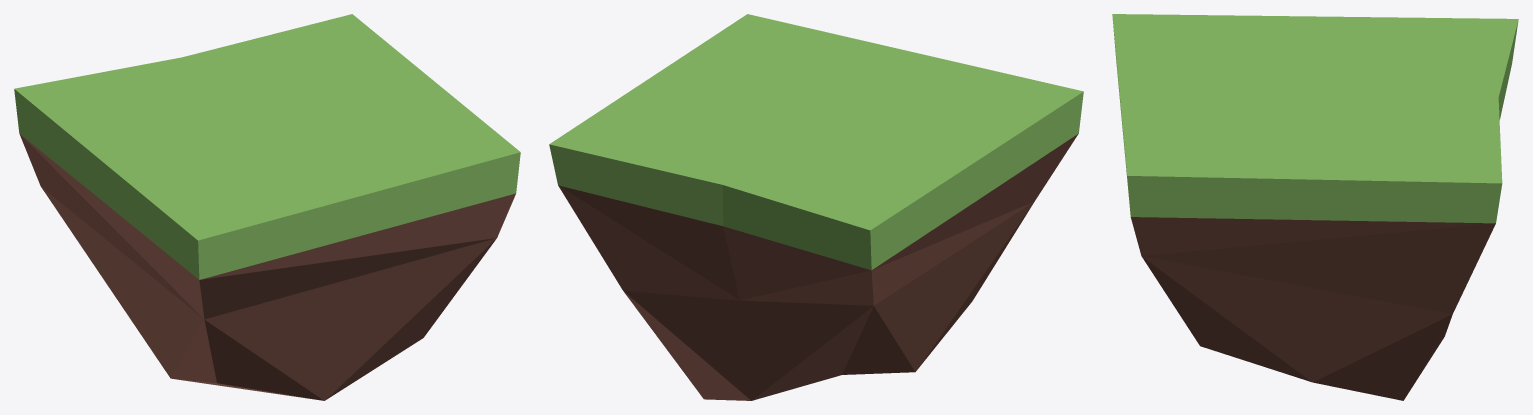
File: SmallIsland2.fbx
The picture shows the model from 3 angles, left to right: view 1: azimuth 30°, elevation 25°; view 2: azimuth 150°, elevation 25°; view 3: azimuth 270°, elevation 25°; orthographic projection. The views are drawn at different scales.
Visible parts, largest first — view 1: SmallIsland2; view 2: SmallIsland2; view 3: SmallIsland2.
Boxes of the visible parts, x1=… form: SmallIsland2: x1=14, y1=14, x2=520, y2=400; SmallIsland2: x1=549, y1=14, x2=1083, y2=400; SmallIsland2: x1=1112, y1=14, x2=1518, y2=400.
Size of the model in its own units: 0.8732 by 0.6408 by 0.8716.
